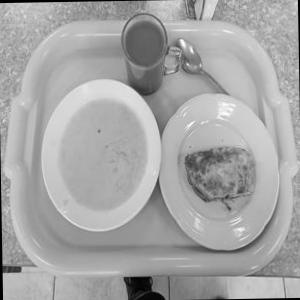cheese_sandwich: (174, 133, 260, 212)
coffee: (108, 5, 189, 108)
porridge: (41, 78, 162, 223)
